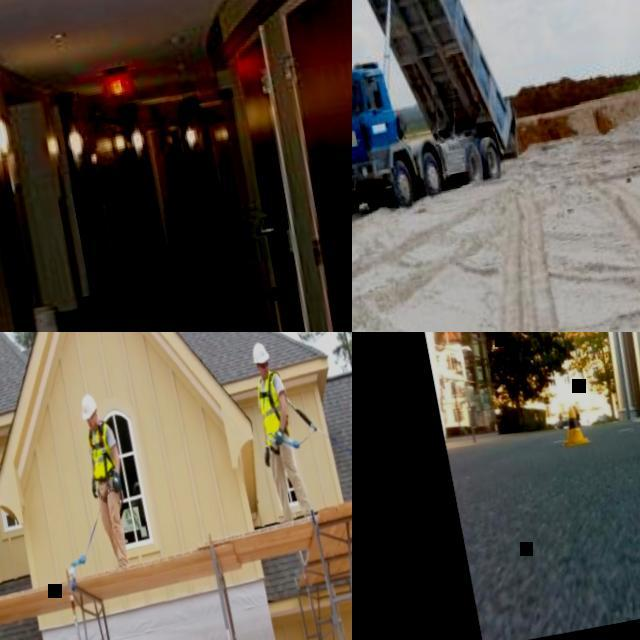helmet: (78, 392, 100, 420), (250, 342, 270, 366)
vest: (254, 368, 293, 446), (85, 421, 118, 478)
